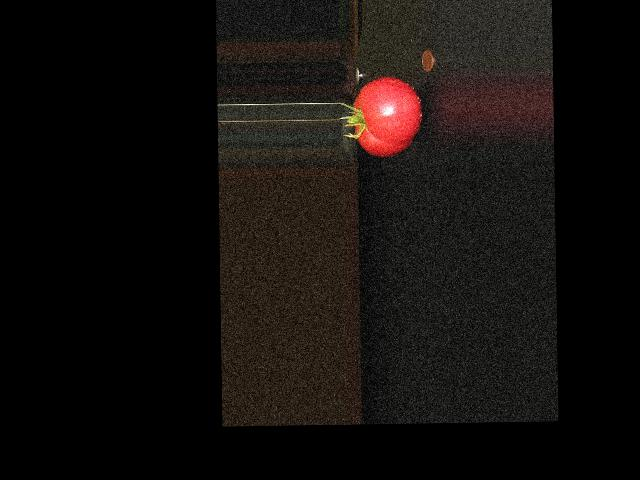tomato: (353, 76, 423, 158)
